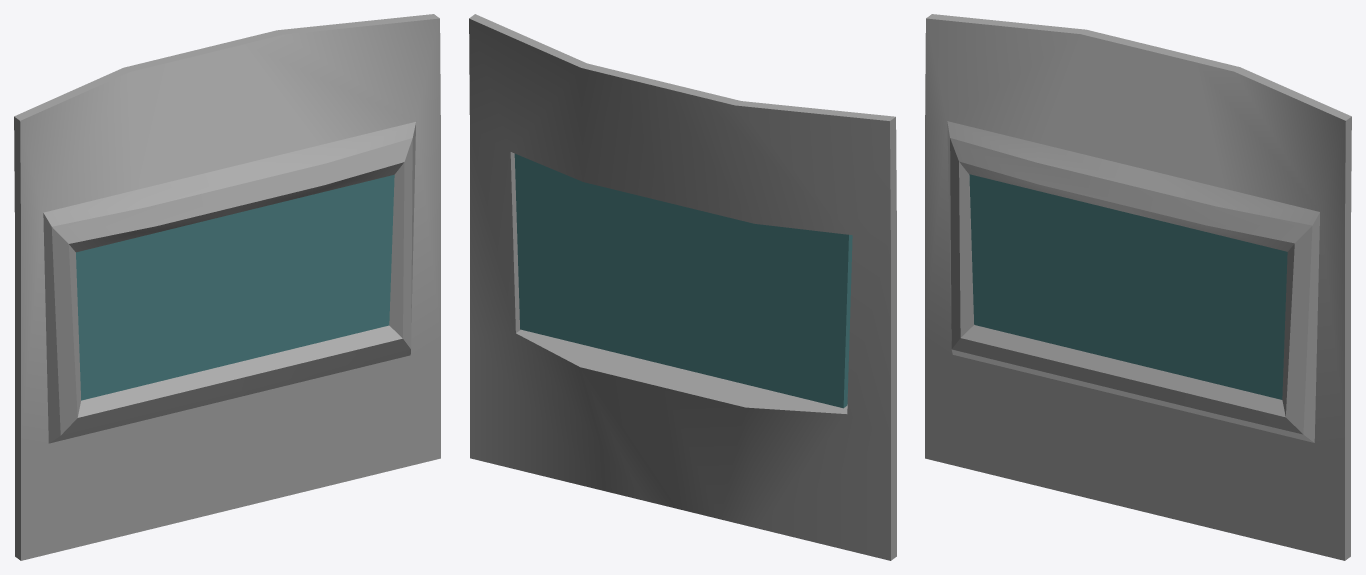
Rendered from waal1.fbx.
The picture shows the model from 3 angles, left to right: view 1: azimuth 30°, elevation 25°; view 2: azimuth 150°, elevation 25°; view 3: azimuth 330°, elevation 25°; orthographic projection.
Parts seen in each view (by area): view 1: pCube56, pCube3424; view 2: pCube56, pCube3424; view 3: pCube56, pCube3424.
Boxes of the visible parts, left/top/right/bottom form: pCube56: left=14, top=14, right=440, bottom=560; pCube3424: left=76, top=174, right=394, bottom=400; pCube56: left=469, top=14, right=896, bottom=560; pCube3424: left=514, top=153, right=852, bottom=408; pCube56: left=925, top=14, right=1351, bottom=560; pCube3424: left=969, top=174, right=1287, bottom=399.
Size of the model in its own units: 1 by 1 by 0.1656.
